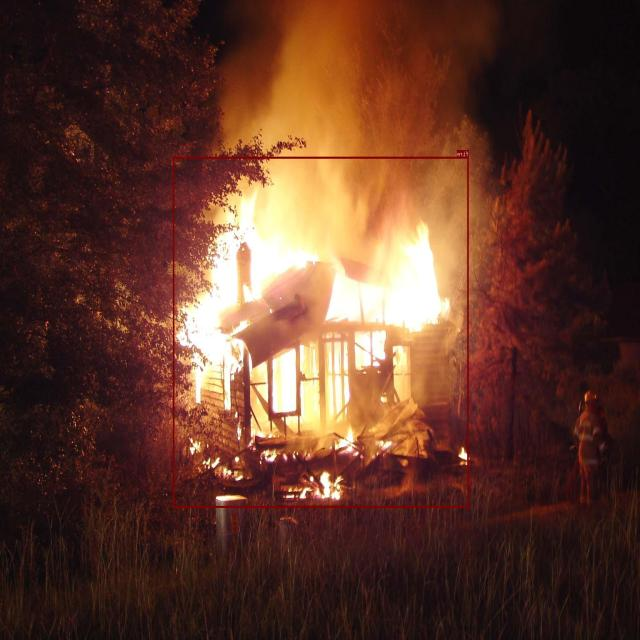fire: (173, 157, 469, 507)
